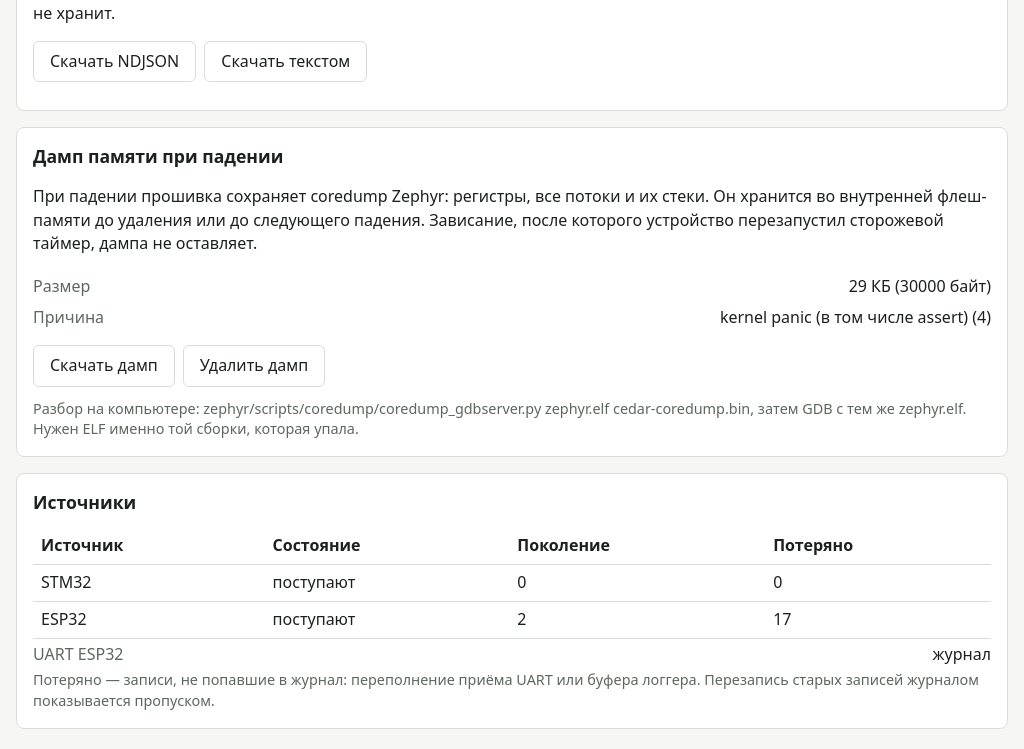
Test: coredump › clears the dump with the session CSRF token and reads the state again
(page scrolled)
Click the button "Удалить дамп" at (254, 366), box [183,345,325,386]
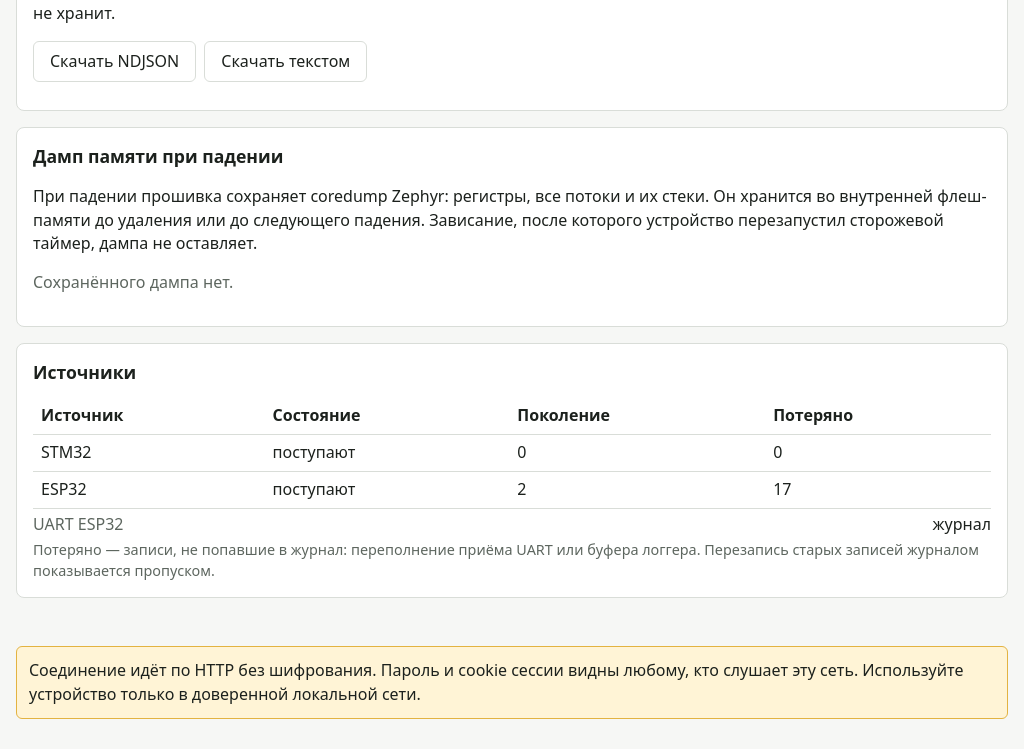
Expected: the text "Сохранённого дампа нет." is shown, [33,271,233,293]
